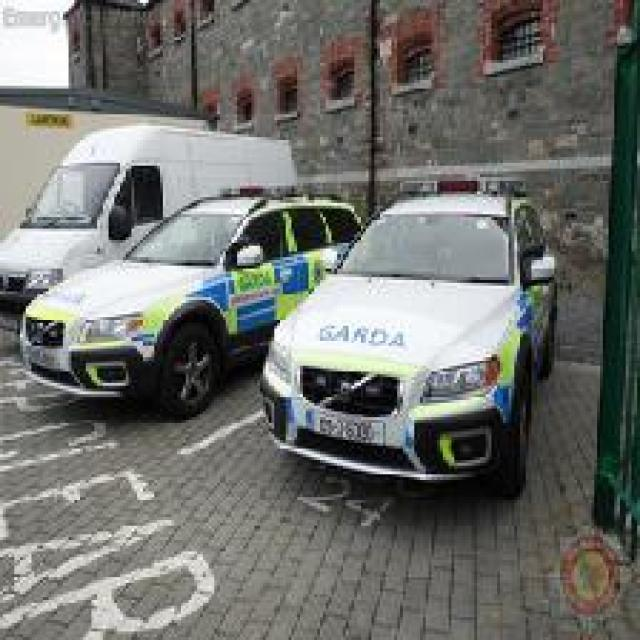emergency: (256, 183, 560, 501), (21, 193, 372, 405)
